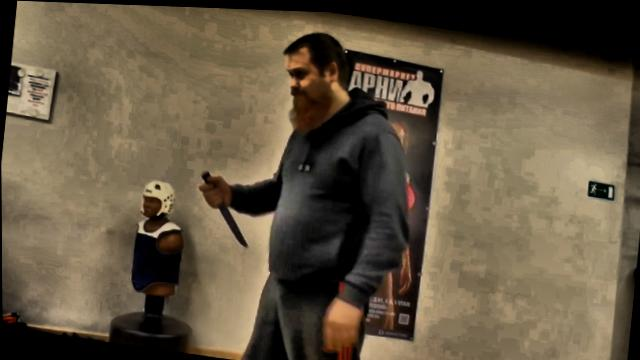knife: (192, 167, 257, 248)
